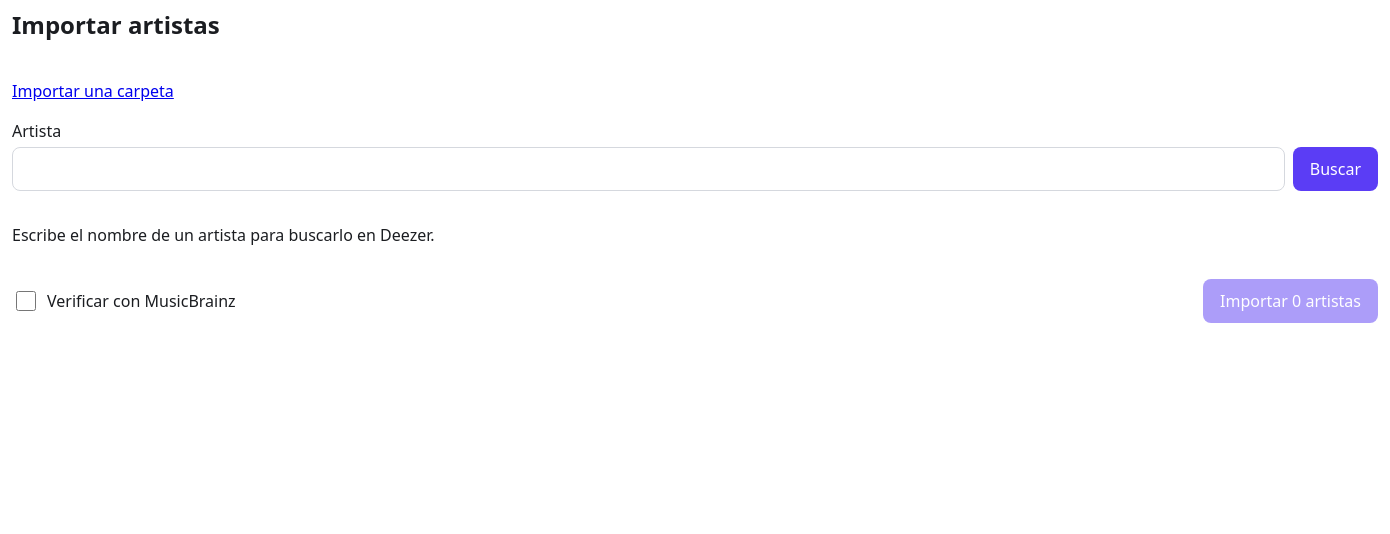
Test case: ImportView › si la API rechaza la importación, la selección se mantiene
Type "justice" into the search field labelled "Artista".
click(648, 169); type("justice")  # box [12,147,1285,191]
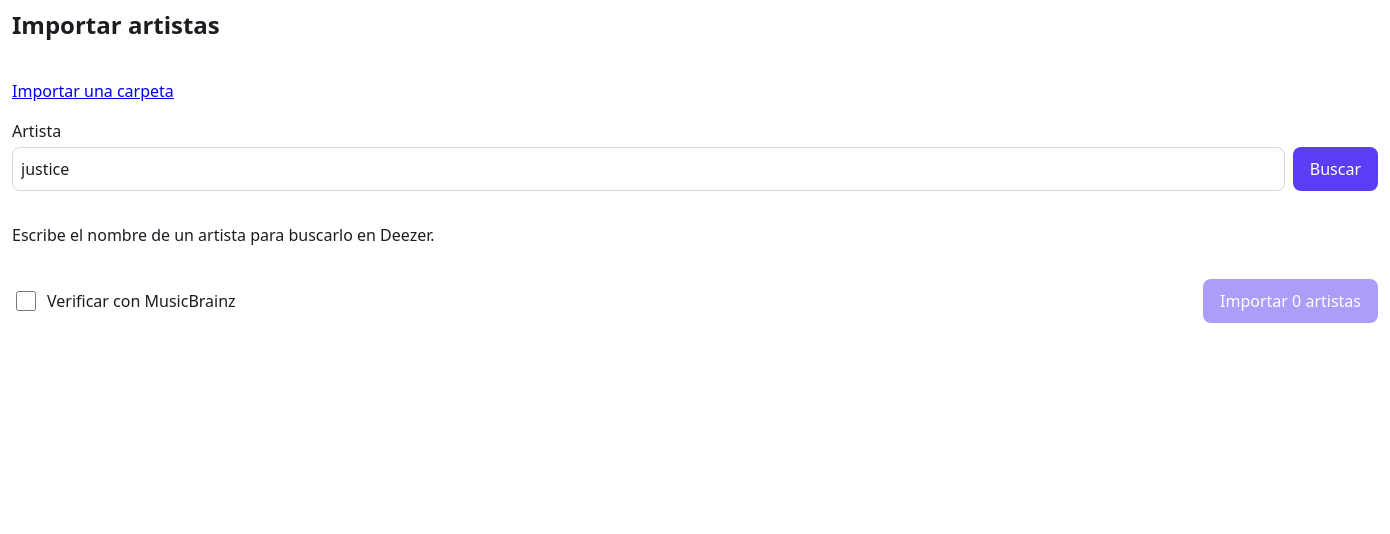
Submit the form, box [12,119,1378,191]
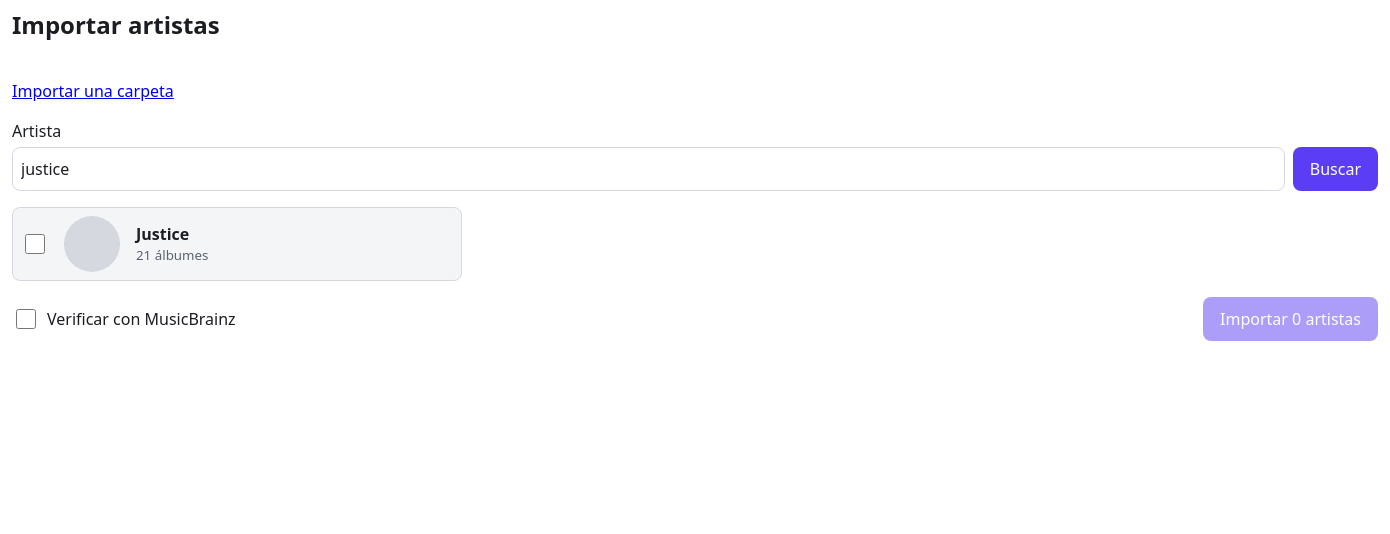
Expected: the number of list items is 1, [12,207,462,281]
Click the checkbox labelled "Justice 21 álbumes".
click(35, 244)  # box [25,234,45,254]
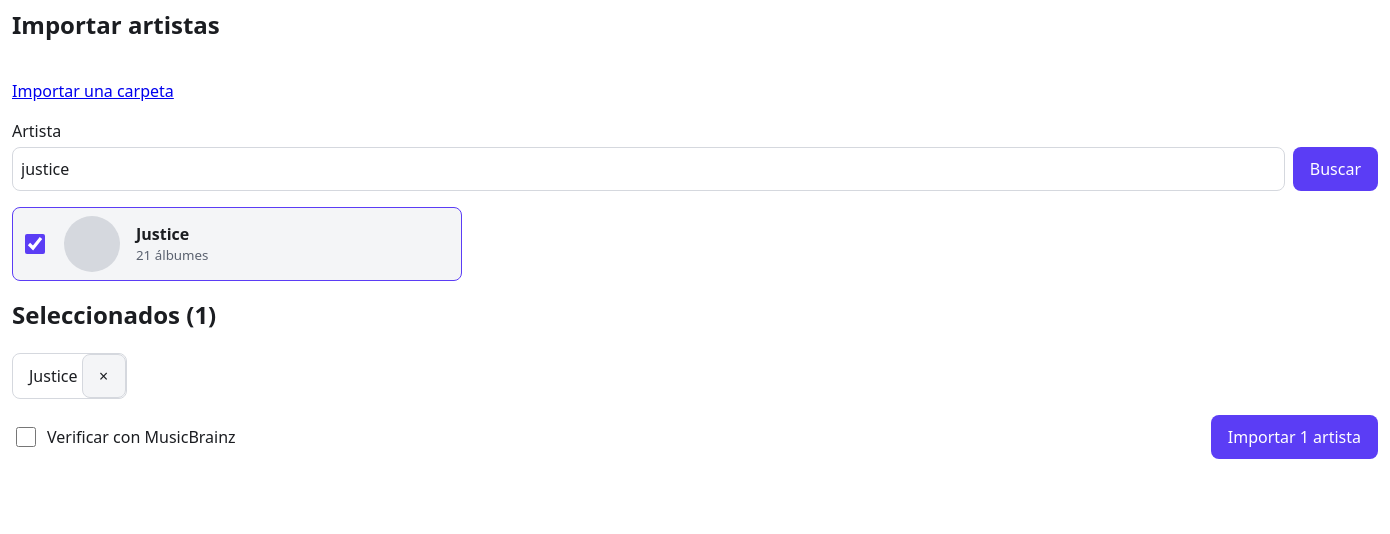
Click the button "Importar 1 artista".
click(1294, 437)  # box [1211,415,1378,459]
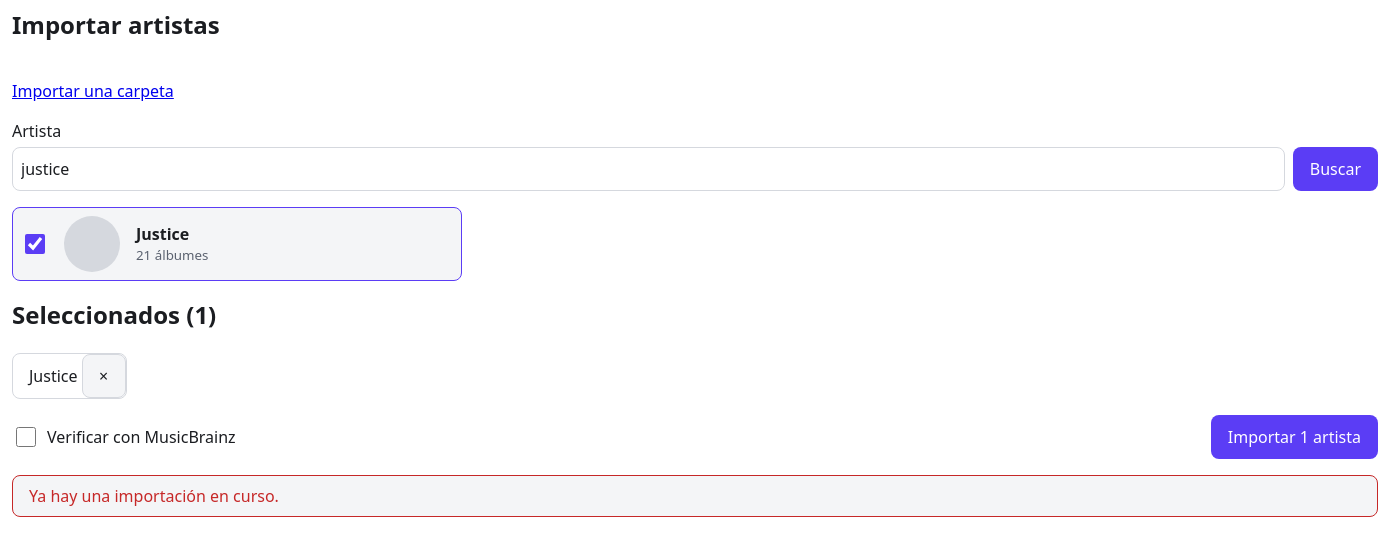
Expected: the heading "Seleccionados (1)" is shown, [12,298,216,331]
Expected: the message "Ya hay una importación en curso." is shown, [12,475,1378,517]
